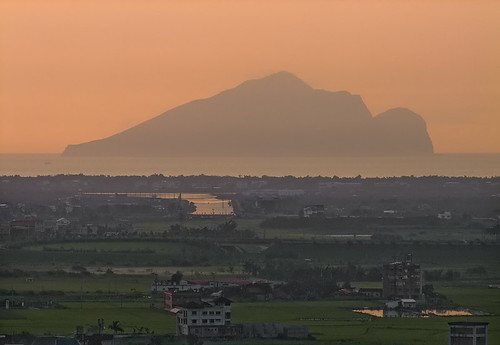turtleIsland: (57, 71, 435, 155)
